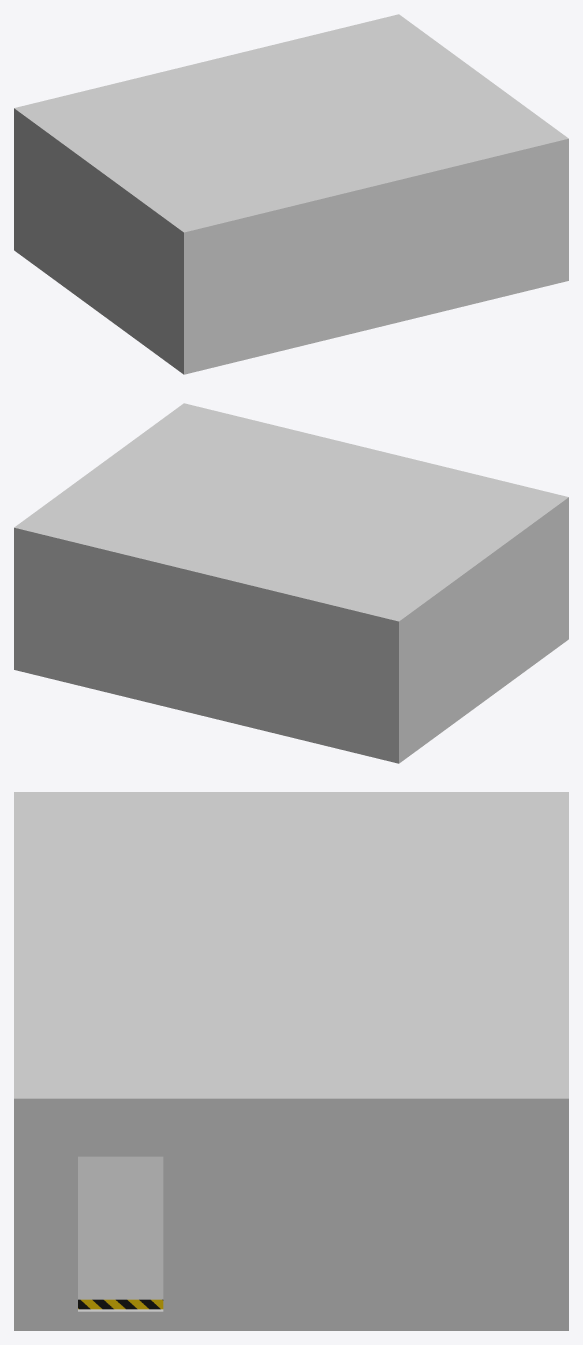
Rendered from Offyce.glb.
The picture shows the model from 3 angles, top to bottom: view 1: azimuth 30°, elevation 25°; view 2: azimuth 150°, elevation 25°; view 3: azimuth 270°, elevation 25°; orthographic projection. The views are drawn at different scales.
Visible parts, largest first — view 1: Ceiling, Front wall, Right wall, Floor, Left wall; view 2: Ceiling, Back wall, Right wall, Floor, Front wall; view 3: Ceiling, Left wall, Cube, Floor, Back wall, Cube.001.
Boxes of the visible parts, x1=… form: Ceiling: x1=14, y1=14, x2=568, y2=244; Front wall: x1=177, y1=153, x2=557, y2=362; Right wall: x1=14, y1=120, x2=177, y2=357; Floor: x1=14, y1=239, x2=568, y2=374; Left wall: x1=557, y1=150, x2=568, y2=271; Ceiling: x1=14, y1=403, x2=568, y2=633; Back wall: x1=14, y1=539, x2=387, y2=748; Right wall: x1=387, y1=514, x2=562, y2=751; Floor: x1=14, y1=628, x2=568, y2=763; Front wall: x1=562, y1=509, x2=568, y2=631; Ceiling: x1=14, y1=792, x2=568, y2=1117; Left wall: x1=14, y1=1118, x2=547, y2=1311; Cube: x1=78, y1=1156, x2=163, y2=1299; Floor: x1=14, y1=1309, x2=568, y2=1330; Back wall: x1=547, y1=1118, x2=568, y2=1311; Cube.001: x1=78, y1=1299, x2=163, y2=1309.
Size of the model in its own units: 8.5 by 3 by 6.5.
3 materials, 1 textured.
